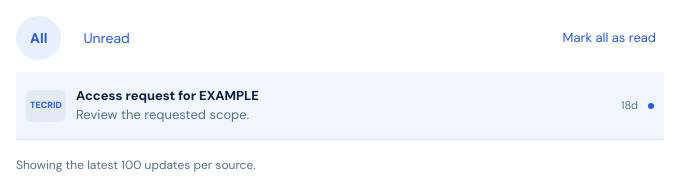
Scenario: marks all notifications read from the toolbar
Expected: the text "Access request for EXAMPLE" is shown, [76,87,259,104]
Click the button "Mark all as read": (609, 38) [555,16,664,60]
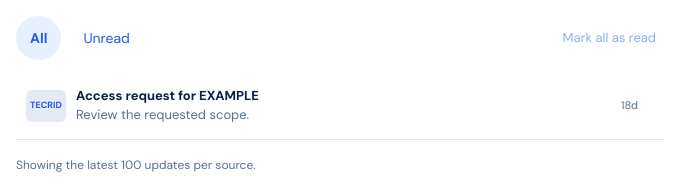
Expected: the link with aria-label "EXAMPLE, Read" is shown, [16,72,664,140]
